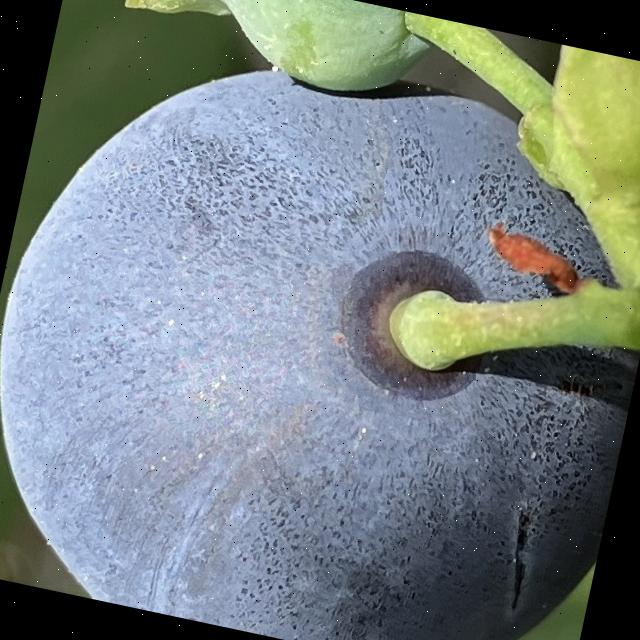Blueberries: (0, 1, 640, 640), (78, 0, 454, 111)
